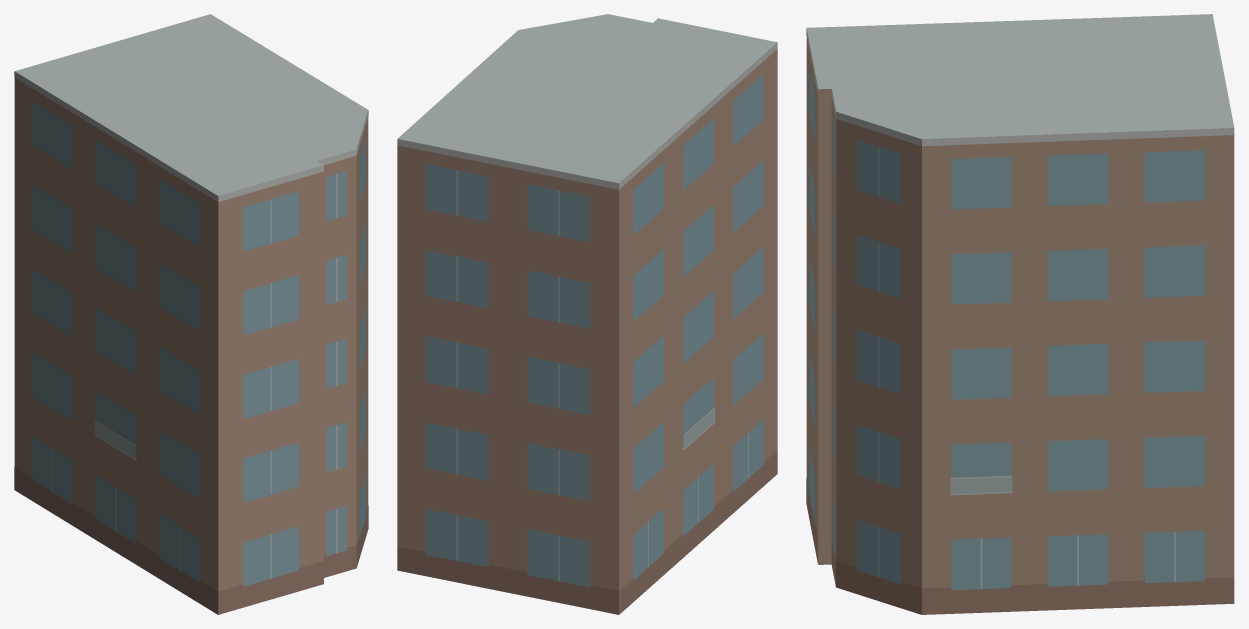
File: survey-upis-33037864.glb
The picture shows the model from 3 angles, left to right: view 1: azimuth 30°, elevation 25°; view 2: azimuth 150°, elevation 25°; view 3: azimuth 270°, elevation 25°; orthographic projection. The views are drawn at different scales.
Visible parts, largest first — view 1: survey-upis-33037864.tmp; view 2: survey-upis-33037864.tmp; view 3: survey-upis-33037864.tmp.
Part boxes in pixels (x1=…): survey-upis-33037864.tmp: x1=14, y1=14, x2=368, y2=614; survey-upis-33037864.tmp: x1=397, y1=14, x2=777, y2=614; survey-upis-33037864.tmp: x1=806, y1=14, x2=1234, y2=614.
Bounding box in the file's own units: 9.21 × 16.3 × 13.3.
